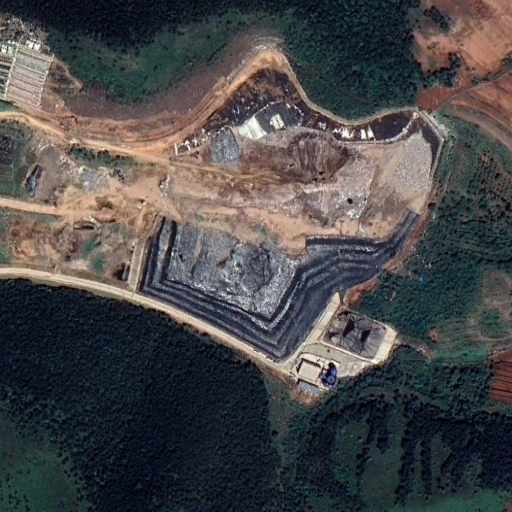lf: (130, 66, 443, 362)
